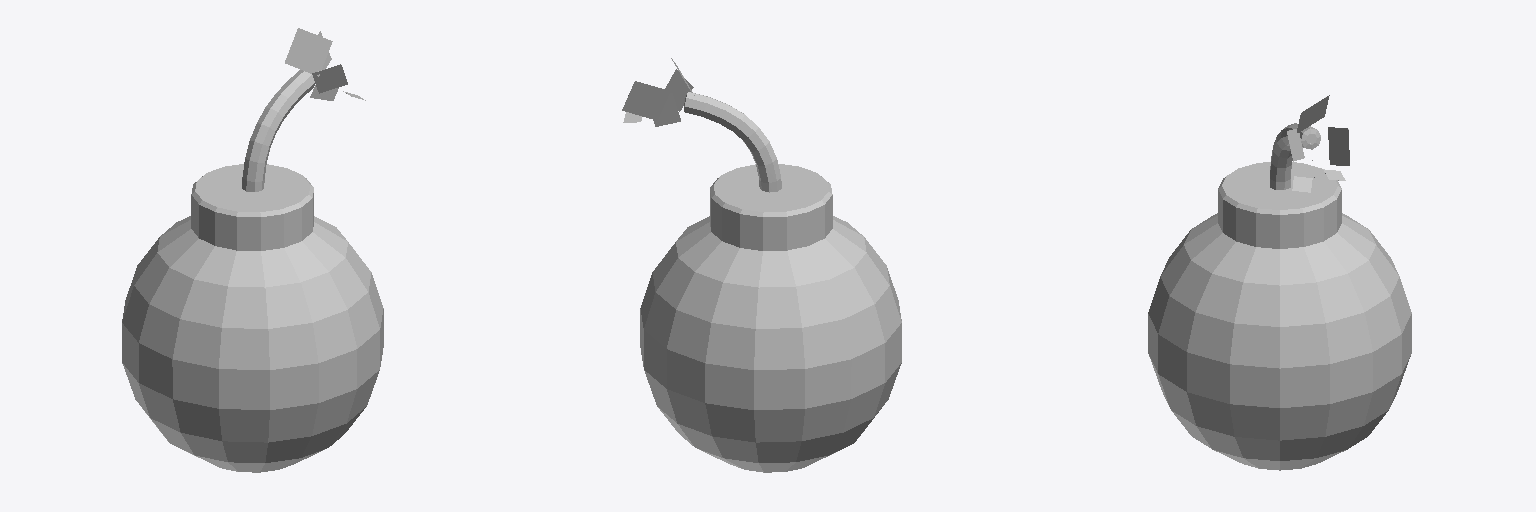
File: bomb_000021.obj
3 views of the same model, side by side, from view 1: azimuth 30°, elevation 25°; view 2: azimuth 150°, elevation 25°; view 3: azimuth 270°, elevation 25° (orthographic).
Parts seen in each view (by area): view 1: Sphere, NurbsPath, Plane_5.001_Mesh.001; view 2: Sphere, NurbsPath, Plane_5.001_Mesh.001; view 3: Sphere, Plane_5.001_Mesh.001, NurbsPath.
Part boxes in pixels (left/top/right/bottom): Sphere: left=122, top=164, right=383, bottom=472; NurbsPath: left=242, top=70, right=315, bottom=191; Plane_5.001_Mesh.001: left=285, top=28, right=365, bottom=100; Sphere: left=640, top=164, right=901, bottom=472; NurbsPath: left=684, top=92, right=781, bottom=192; Plane_5.001_Mesh.001: left=622, top=58, right=694, bottom=126; Sphere: left=1148, top=162, right=1411, bottom=470; Plane_5.001_Mesh.001: left=1287, top=95, right=1349, bottom=192; NurbsPath: left=1270, top=123, right=1320, bottom=189.
Size of the model in its own units: 0.8772 by 1.38 by 0.8533.